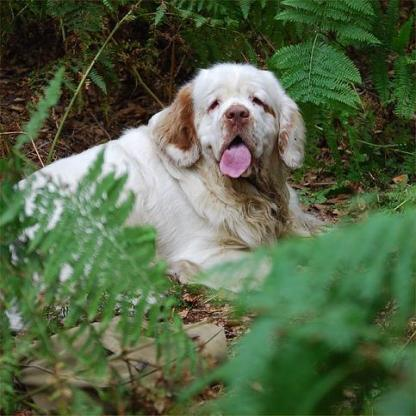clumber: (5, 60, 357, 334)
